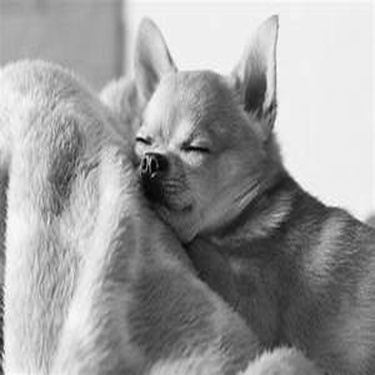dog: (1, 48, 326, 371), (104, 4, 370, 370)
